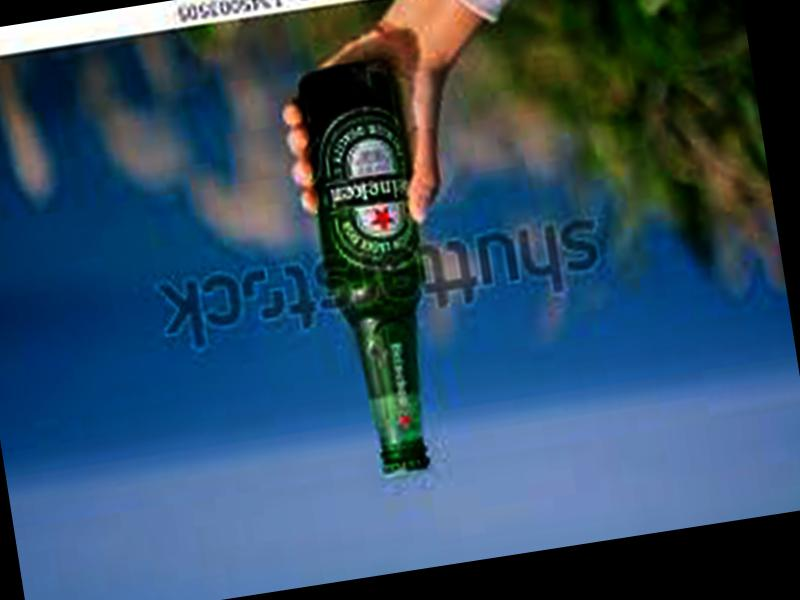Beer: (296, 56, 456, 481)
